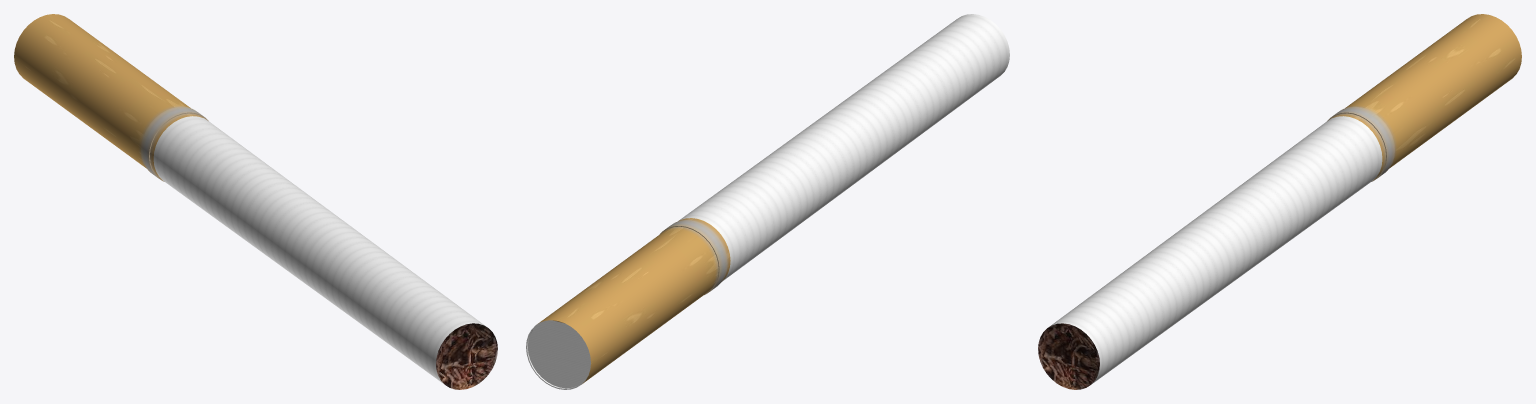
The model's file is cig.dae.
The picture shows the model from 3 angles, left to right: view 1: azimuth 30°, elevation 25°; view 2: azimuth 150°, elevation 25°; view 3: azimuth 330°, elevation 25°; orthographic projection.
Visible parts, largest first — view 1: Cylinder; view 2: Cylinder; view 3: Cylinder.
Part boxes in pixels (<box>): Cylinder: <box>14,14,497,389</box>; Cylinder: <box>526,14,1009,389</box>; Cylinder: <box>1038,14,1521,389</box>.
Bounding box in the file's own units: 0.1226 × 1.34 × 0.1226.
Materials: 2 (2 with a texture image).
